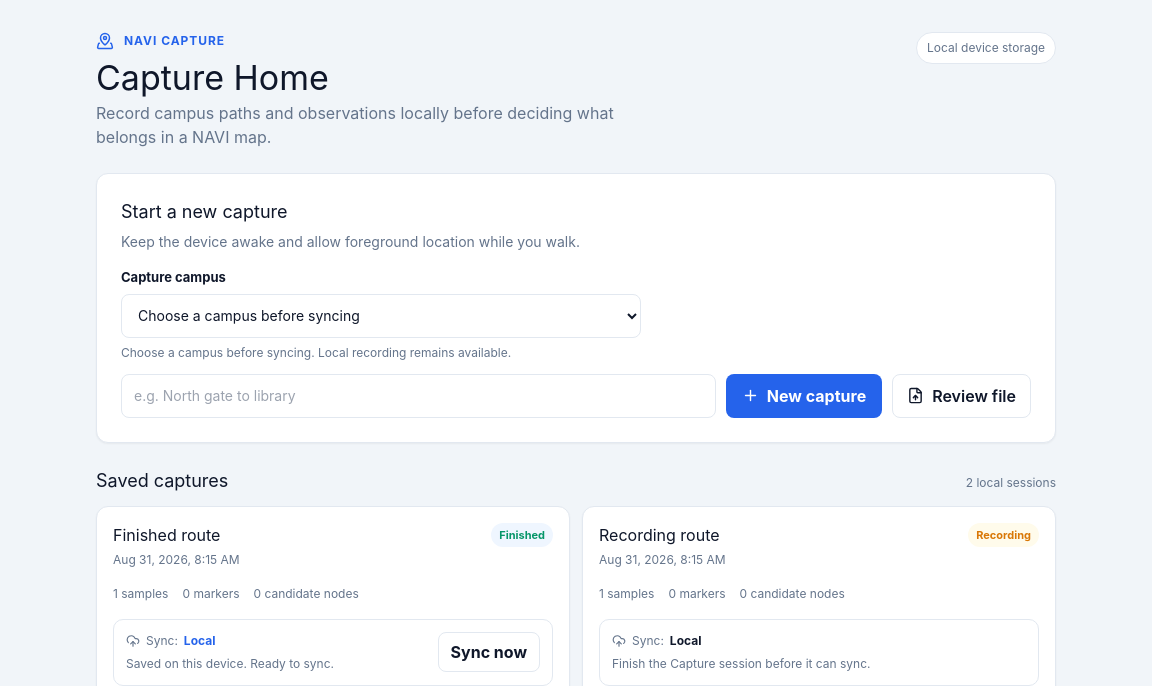
Test: Capture Sync UI composition › shows an actionable campus-selection error when sync is blocked
Click the button with aria-label "Sync now for Finished route": (489, 652) [438,632,540,672]
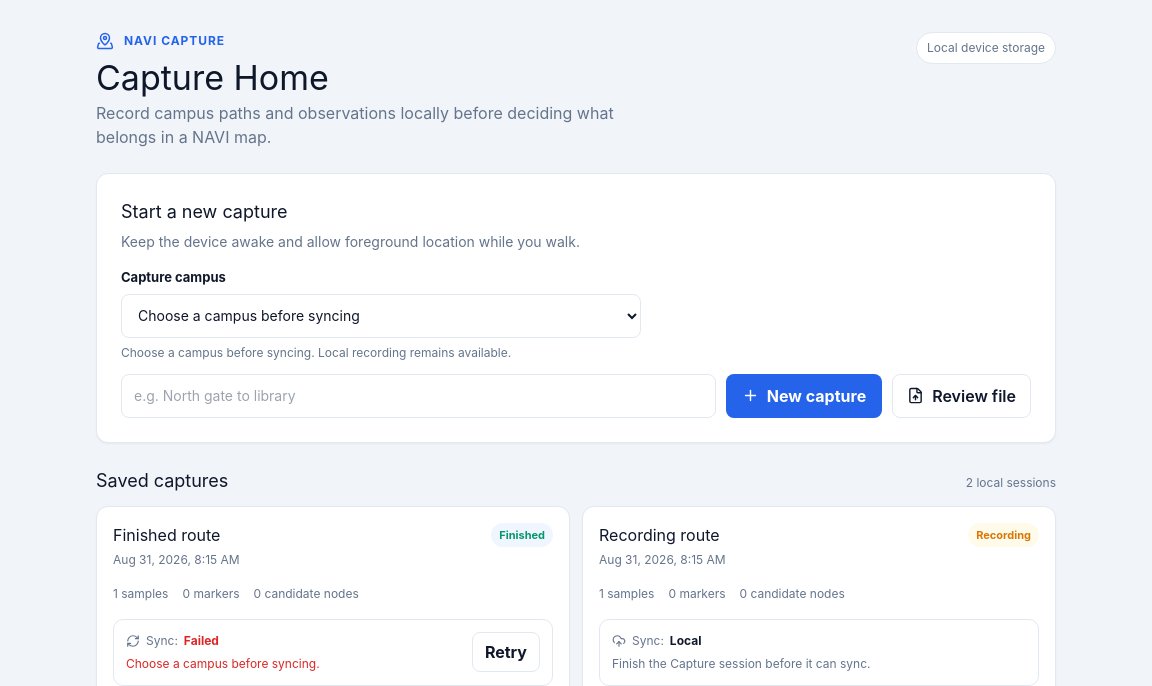
Now the button with aria-label "Retry Finished route" is shown, box [472,632,540,672]
Now the message reads "Choose a campus before syncing.", box [126,656,320,671]
